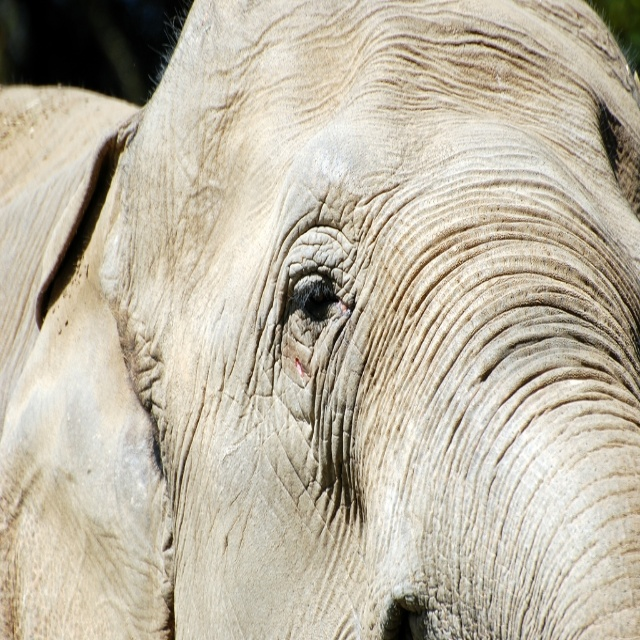Elephant: (3, 0, 640, 640)
